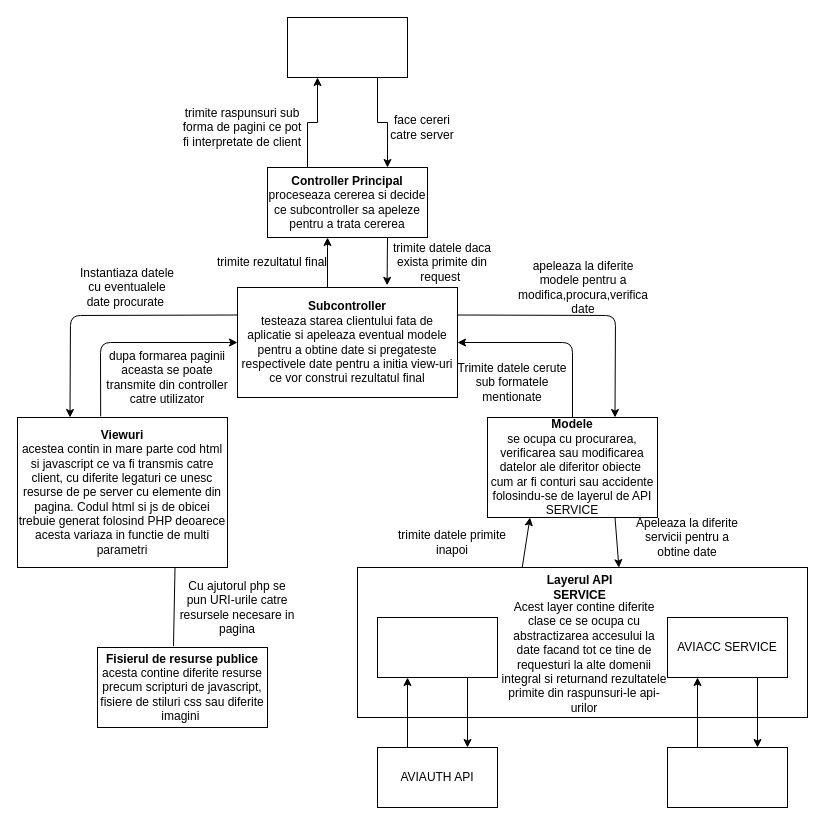
Image size: 825x825. Some labels were removed from this diagram. Here are the shapes that lost their labels. From the top down, the box of each, then its label:
(286, 16, 408, 78): Client
(376, 616, 498, 678): AVIAUTH SERVICE
(666, 746, 788, 808): AVIACC API
